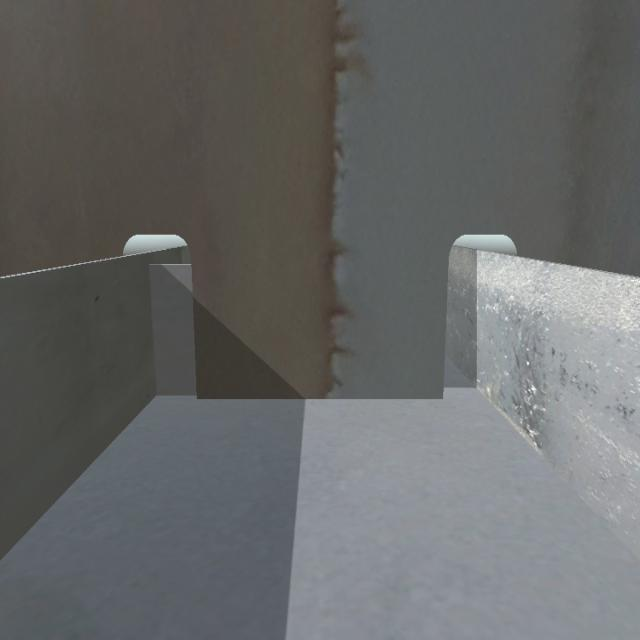fillet_yong_jeop_jang: (155, 391, 446, 407)
longi_yong_jeop_jang: (145, 264, 161, 398)
plate_behind: (143, 263, 196, 398)
